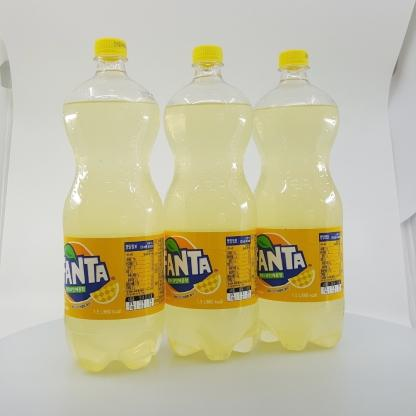--------1-5L: (63, 37, 165, 372), (163, 45, 259, 361), (252, 49, 345, 351)
